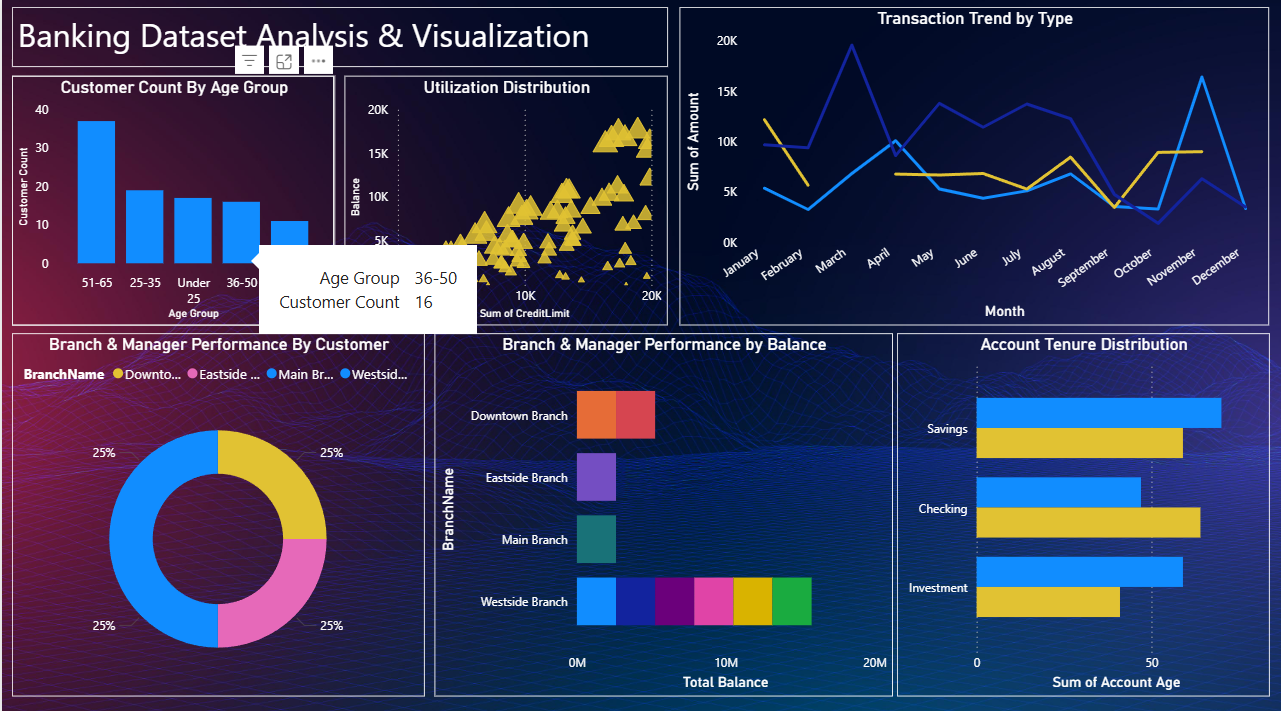

The dashboard page shown, as its layout file describes it:
{"tool":"powerbi","page":{"name":"Visualization 2","canvas":[1280,720],"ordinal":1},"visuals":[{"type":"textbox","box":[9.7,9.7,656.3,60.3],"z":0},{"type":"columnChart","title":"Customer Count By Age Group","fields":{"Category":["Customers.Age Group"],"Y":["Customers.Customer Count"]},"box":[9.7,78.4,323.3,249.7],"z":1000},{"type":"scatterChart","title":"Utilization Distribution","fields":{"X":["CreditCards.CreditLimit"],"Y":["CreditCards.Balance"],"Size":["CreditCards.Credit Utilization"]},"box":[342.6,78.4,323.3,249.7],"z":2000},{"type":"lineChart","title":"Transaction Trend by Type","fields":{"Category":["Date.Date.Variation.Date Hierarchy.Month"],"Series":["Transactions.Type"],"Y":["Transactions.Amount"]},"box":[678,9.7,589.9,318.5],"z":3000},{"type":"donutChart","title":"Branch & Manager Performance  By Customer","fields":{"Category":["Branches.BranchName","Branches.ManagerName"],"Y":["Customers.Customer Count"]},"box":[9.7,336.6,412.6,363.1],"z":4000},{"type":"barChart","title":"Branch & Manager Performance by Balance","fields":{"Category":["Branches.BranchName"],"Series":["Branches.ManagerName"],"Y":["Accounts.Total Balance"]},"box":[431.9,336.6,458.4,363.1],"z":5000},{"type":"clusteredBarChart","title":"Account Tenure Distribution","fields":{"Category":["Accounts.AccountType"],"Y":["Accounts.Account Age"],"Series":["Accounts.Status"]},"box":[895.2,336.6,372.8,363.1],"z":6000}]}

Visuals, with their boxes in screenshot pixels (x1, y1, x2, y2):
textbox: box(0, 3, 662, 64)
"Customer Count By Age Group" columnChart: box(0, 72, 326, 324)
"Utilization Distribution" scatterChart: box(336, 72, 662, 324)
"Transaction Trend by Type" lineChart: box(674, 3, 1269, 324)
"Branch & Manager Performance  By Customer" donutChart: box(0, 333, 416, 699)
"Branch & Manager Performance by Balance" barChart: box(426, 333, 888, 699)
"Account Tenure Distribution" clusteredBarChart: box(893, 333, 1269, 699)
